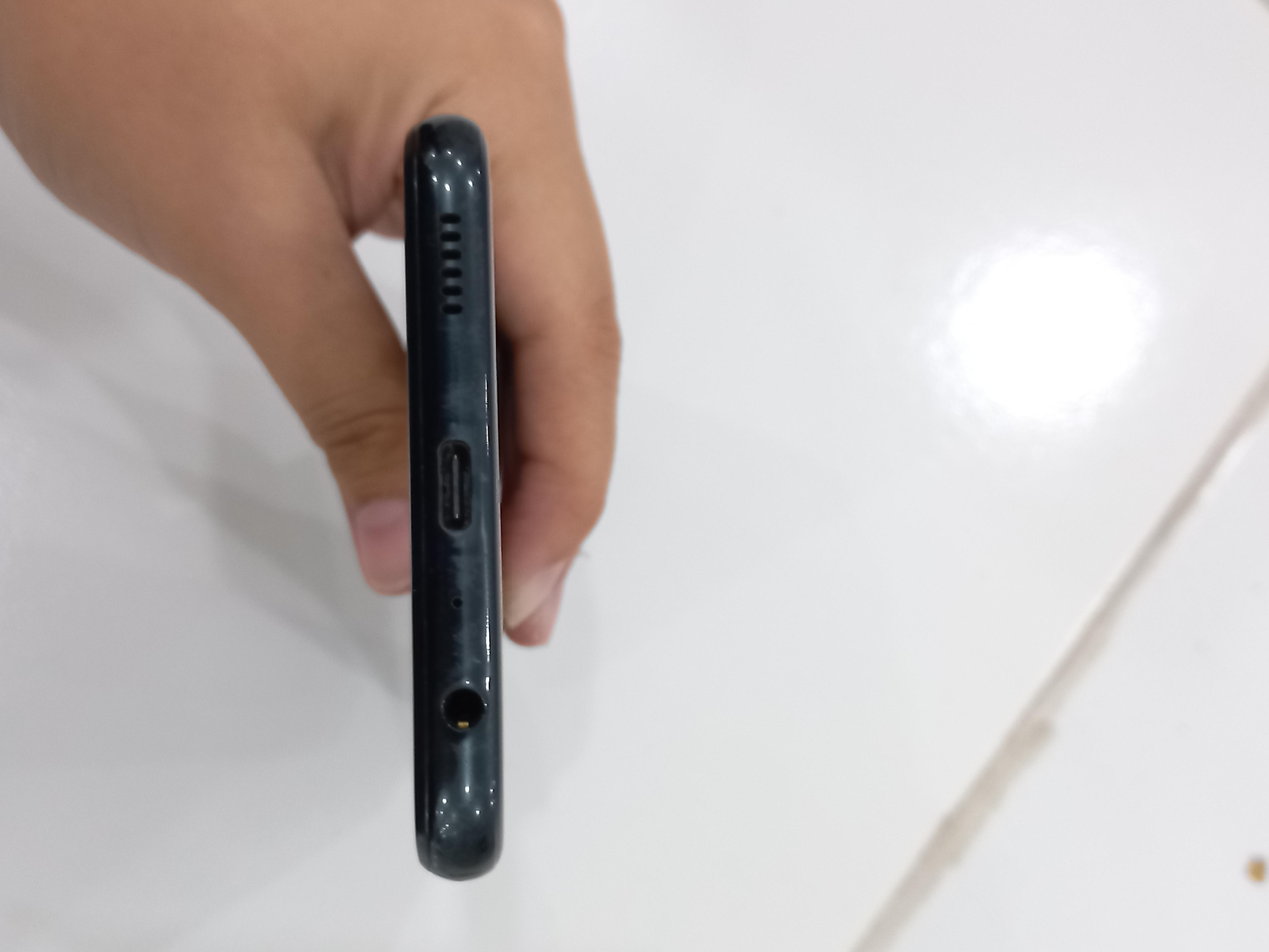phone good: (354, 104, 525, 892)
